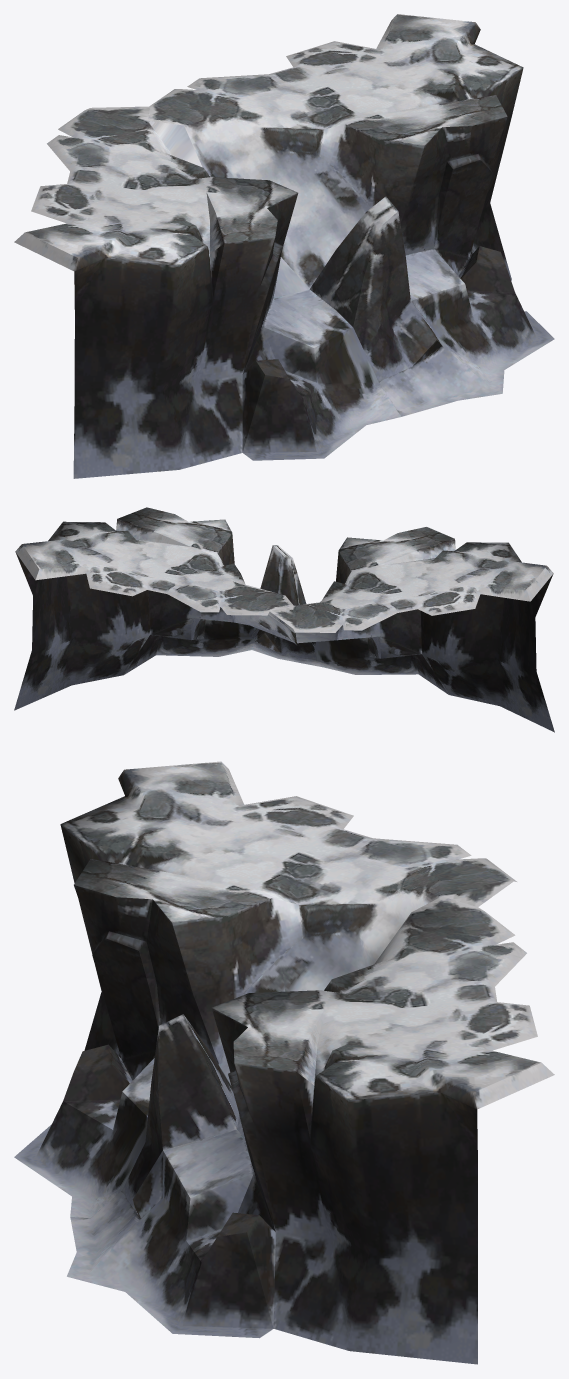
The model's file is 2005_Item_shitou_12.FBX.
3 renders of one model, top to bottom at view 1: azimuth 30°, elevation 25°; view 2: azimuth 150°, elevation 25°; view 3: azimuth 270°, elevation 25°, orthographic. The views are drawn at different scales.
Parts seen in each view (by area): view 1: 2005_Item_shitou_12; view 2: 2005_Item_shitou_12; view 3: 2005_Item_shitou_12.
Boxes of the visible parts, x1,y1,x2,y2 form: 2005_Item_shitou_12: (14, 14, 554, 478); 2005_Item_shitou_12: (14, 507, 554, 732); 2005_Item_shitou_12: (14, 761, 554, 1364).
Size of the model in its own units: 526 by 194 by 353.
